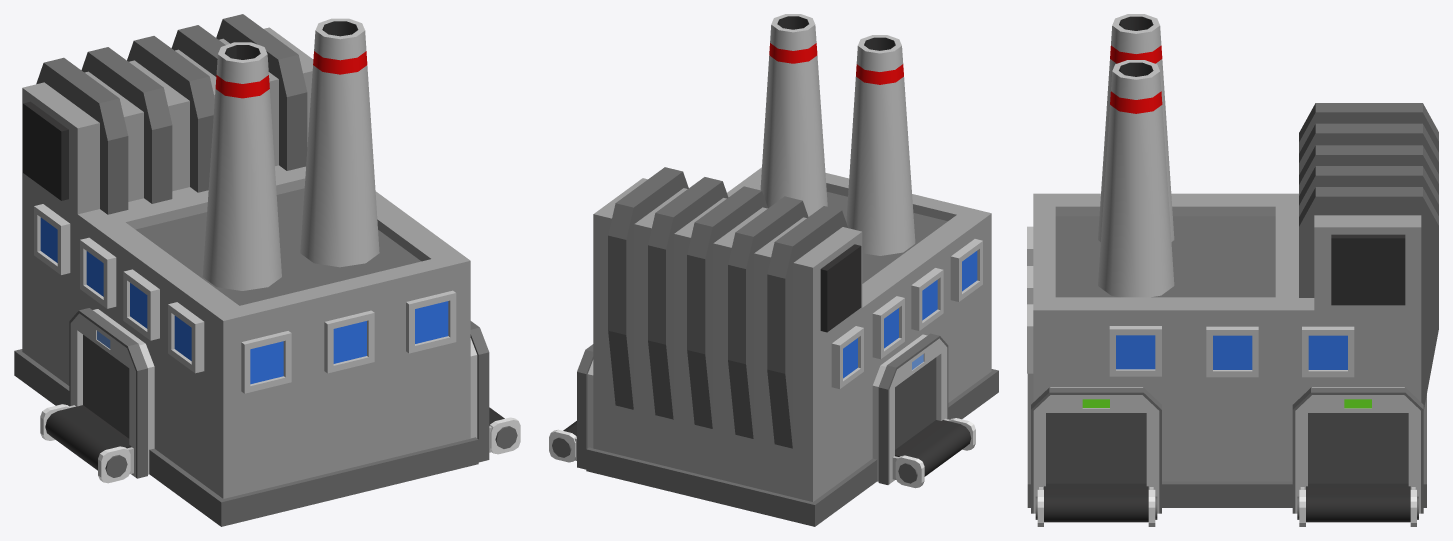
Rendered from Assembler.fbx.
The picture shows the model from 3 angles, left to right: view 1: azimuth 30°, elevation 25°; view 2: azimuth 150°, elevation 25°; view 3: azimuth 270°, elevation 25°; orthographic projection. The views are drawn at different scales.
Visible parts, largest first — view 1: Assembler; view 2: Assembler; view 3: Assembler.
Part boxes in pixels (x1=…): Assembler: x1=14, y1=14, x2=520, y2=526; Assembler: x1=549, y1=14, x2=998, y2=526; Assembler: x1=1027, y1=14, x2=1438, y2=526.
Bounding box in the file's own units: 299 × 337 × 315.
